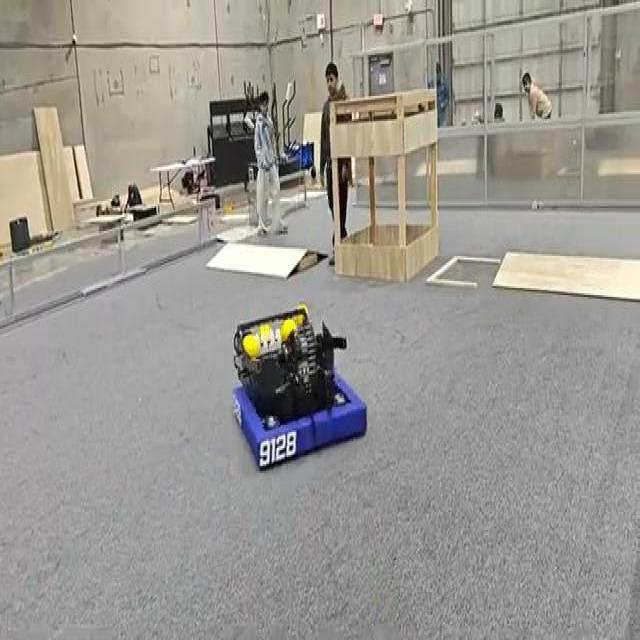Fuel: (242, 334, 260, 359), (242, 334, 259, 358), (280, 318, 296, 342)
